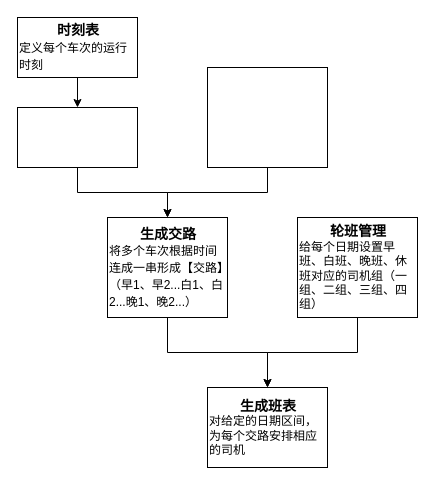
Some shapes in this 435 by 485 pixel diagram are drawn without their labels. The centre of each missing label's shape, as x and y in pixels:
"交路参数设置 包含便乘、顶饭圈、交接班时间点出退勤提前量、高峰交路、备班轮乘、回库接出站" belongs at (267,117).
"时刻表安排 给每个日期绑定一个时刻表" belongs at (77,137).
